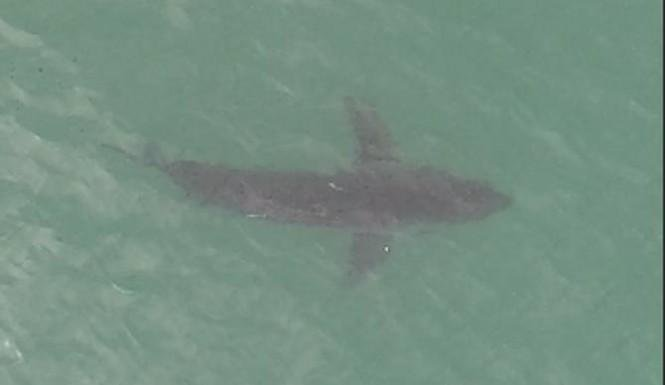shark: (98, 88, 520, 290)
